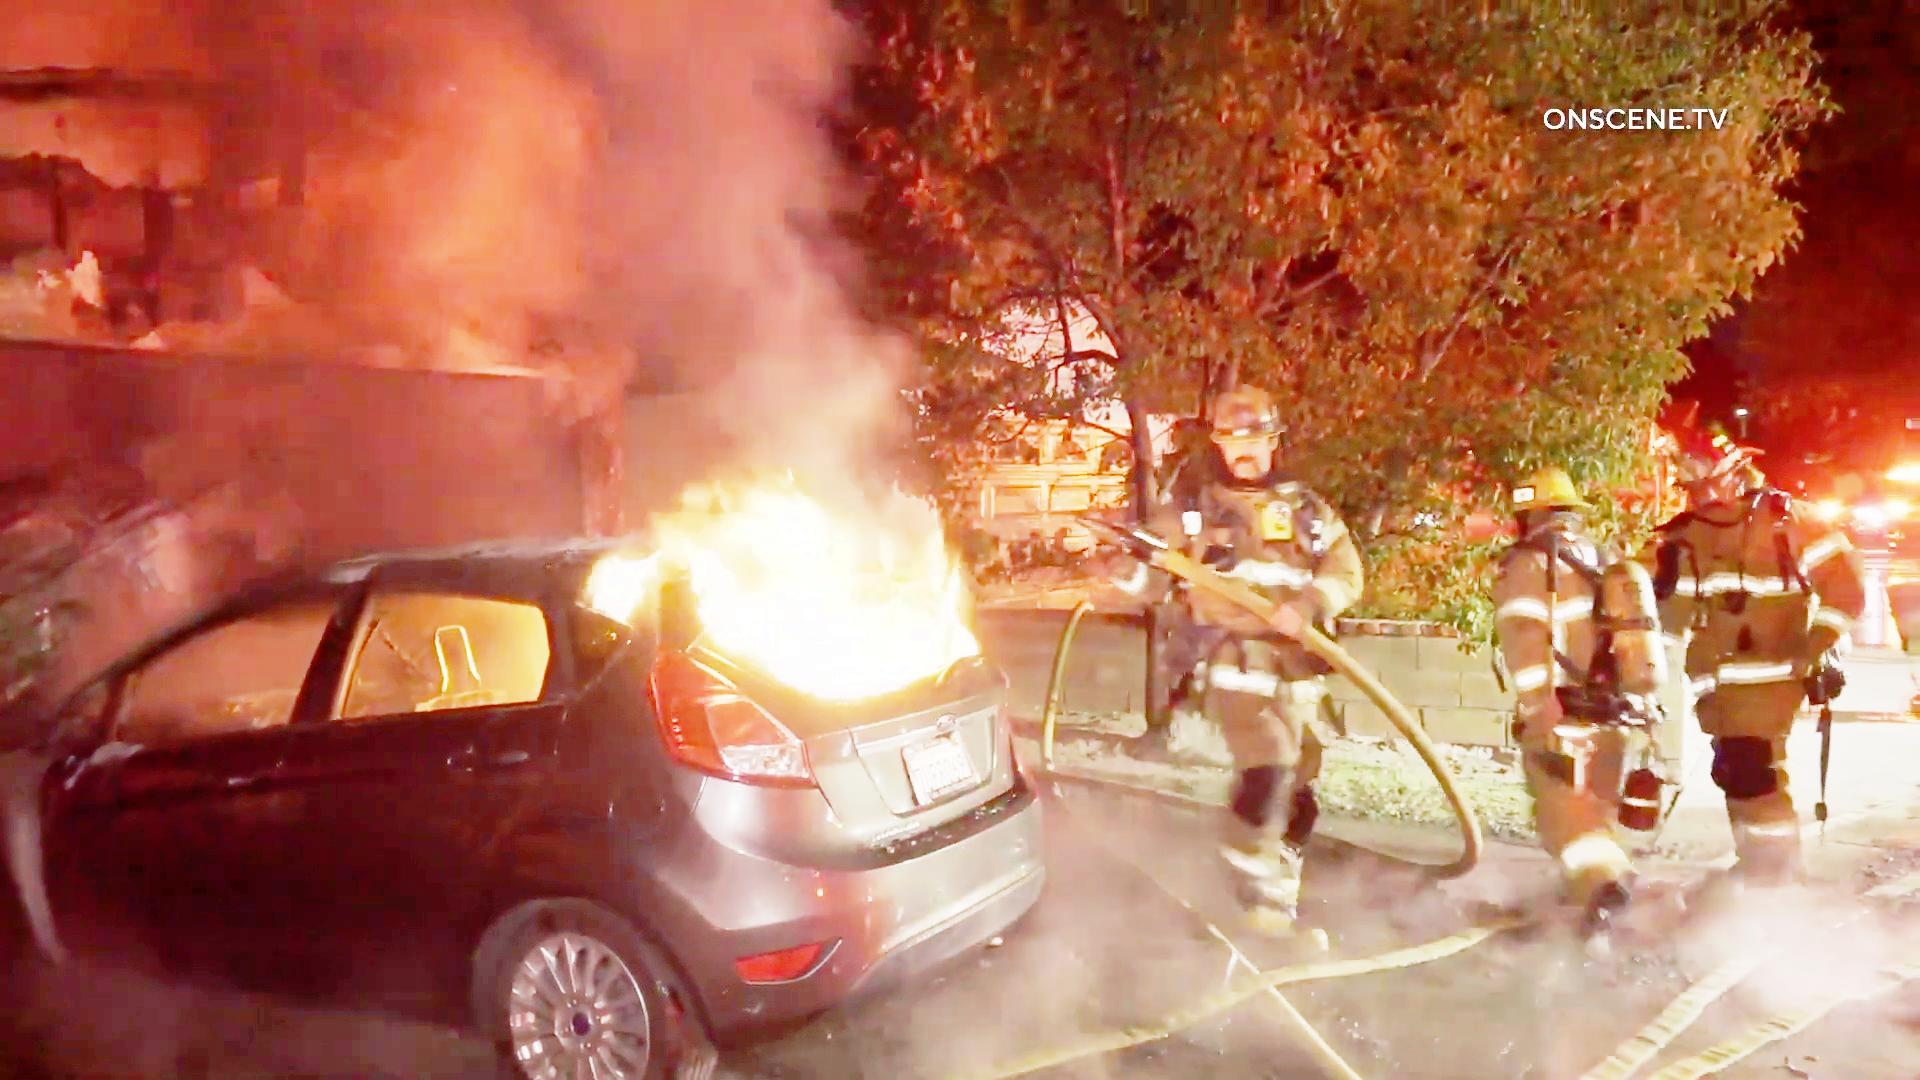fire: (669, 359, 1031, 707)
smoke: (247, 0, 893, 371)
